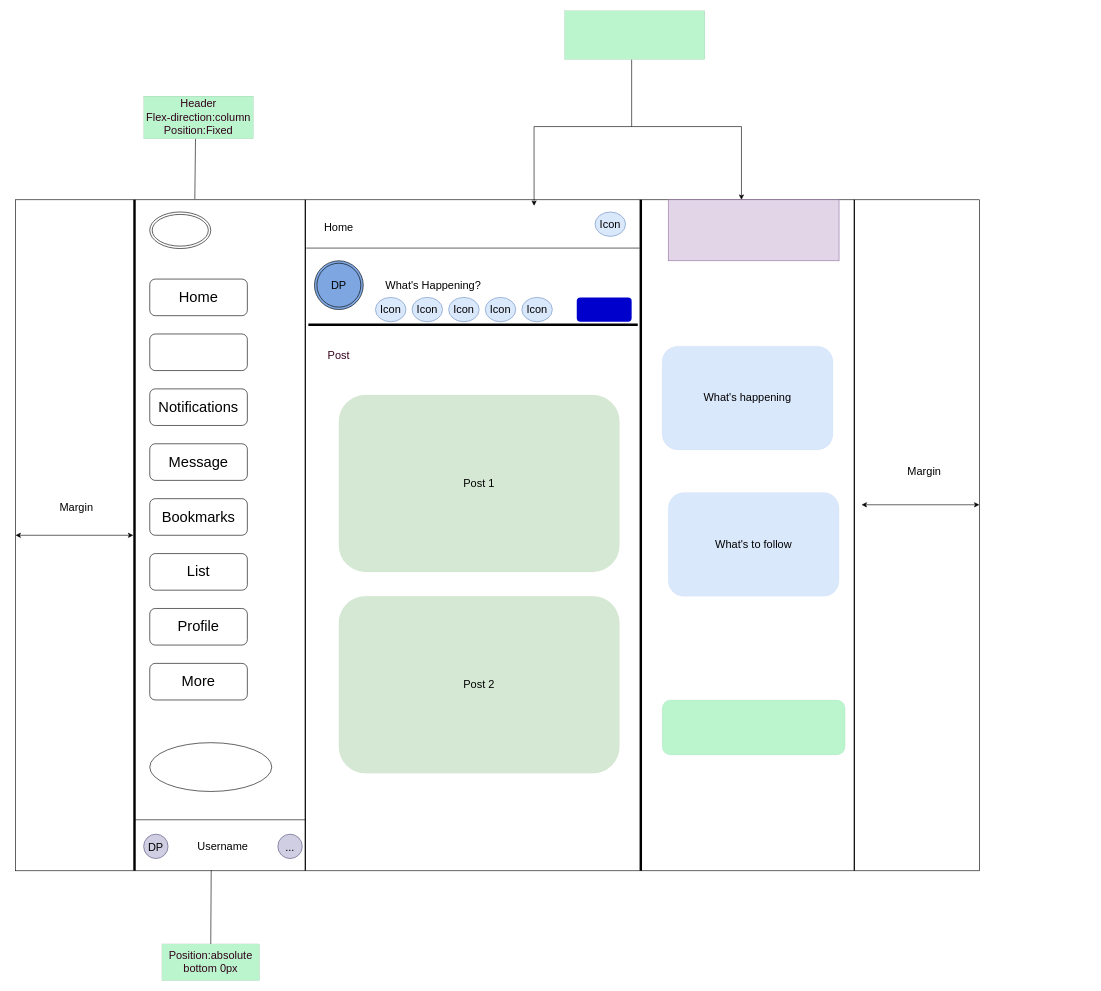
Image size: 1101x991. Some labels were removed from this diagram. The shapes that lost their labels are listed below. From the top down, each one's centre as x and y in pixels, then its label:
At (634,34): "main section flex-directiom:column position:sticky".
At (180,230): "Logo".
At (753,230): "Search Twitter".
At (603,309): "Tweet".
At (198,352): "Explore".
At (753,727): "Footer".
At (210,766): "Submit".
